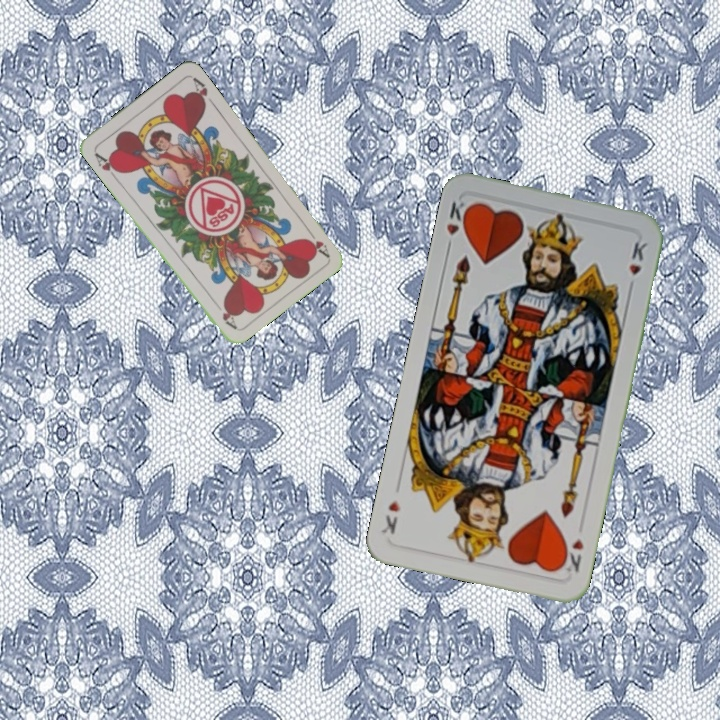HA: (90, 148, 124, 182), (301, 224, 331, 259)
HK: (442, 197, 474, 254), (557, 535, 586, 575)
